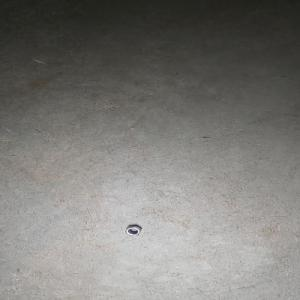Nut: (124, 226, 142, 236)
